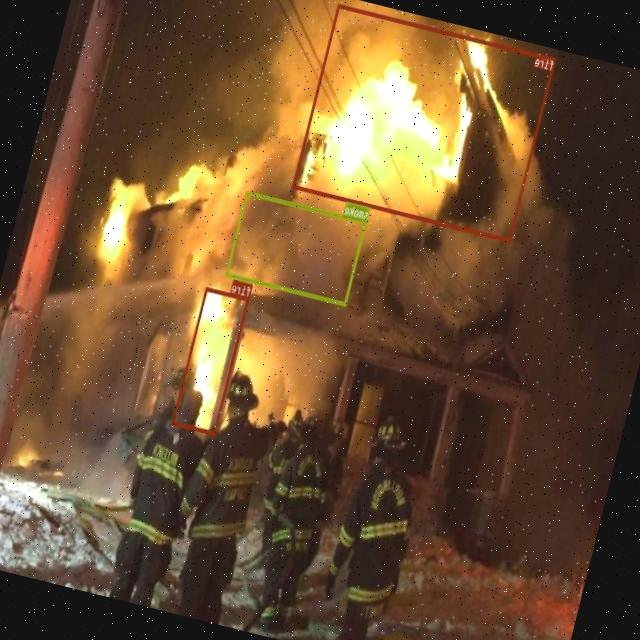fire: (292, 2, 557, 242), (172, 286, 250, 435)
smoke: (225, 190, 368, 305)
